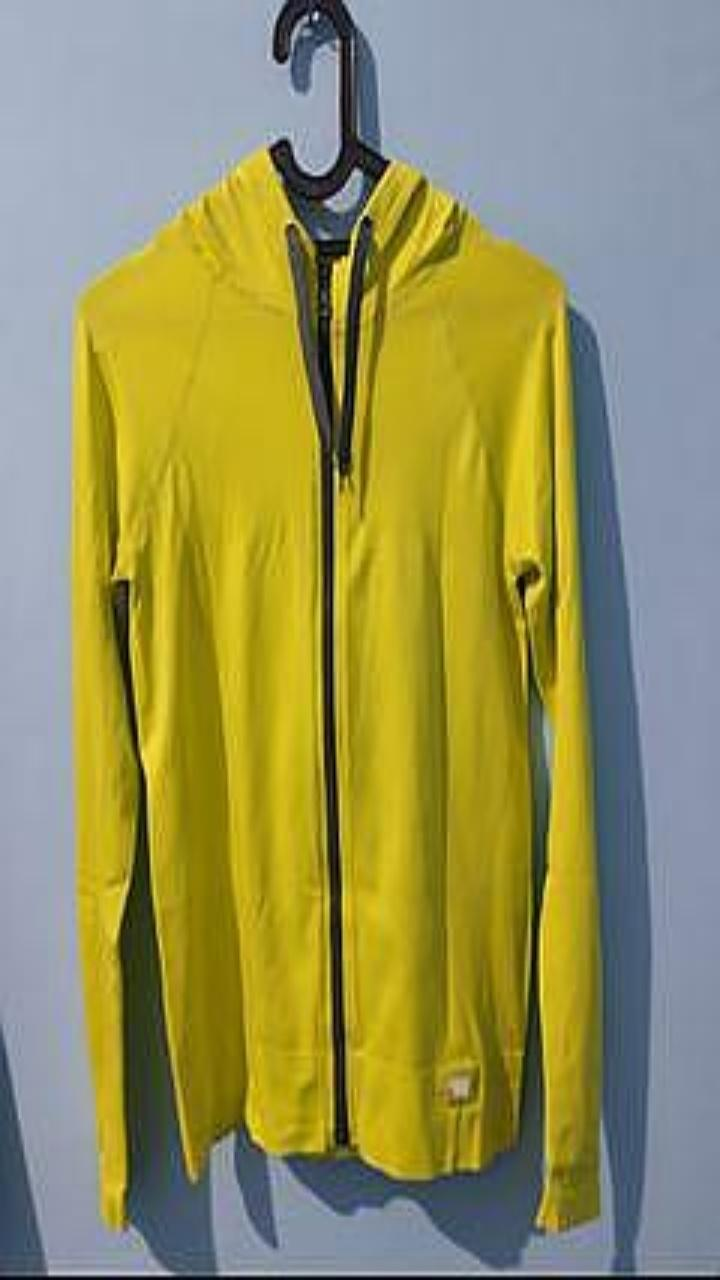Sports_Jacket: (71, 145, 601, 1230)
